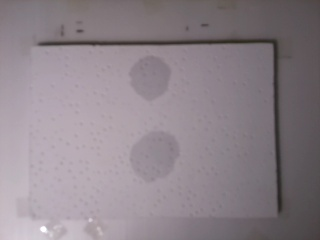Water_detected: (131, 134, 170, 178), (136, 65, 167, 88)
